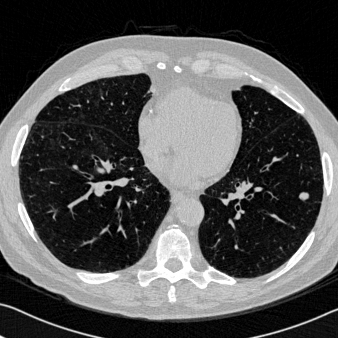nodule: (300, 192, 308, 200)
